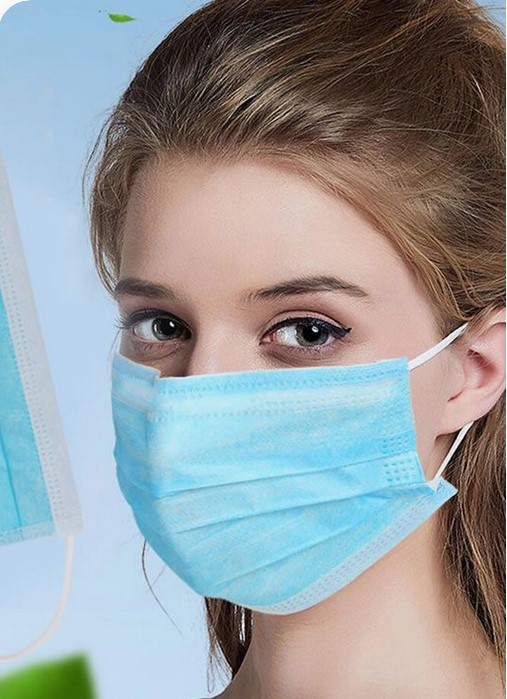face_with_mask: (88, 8, 498, 612)
